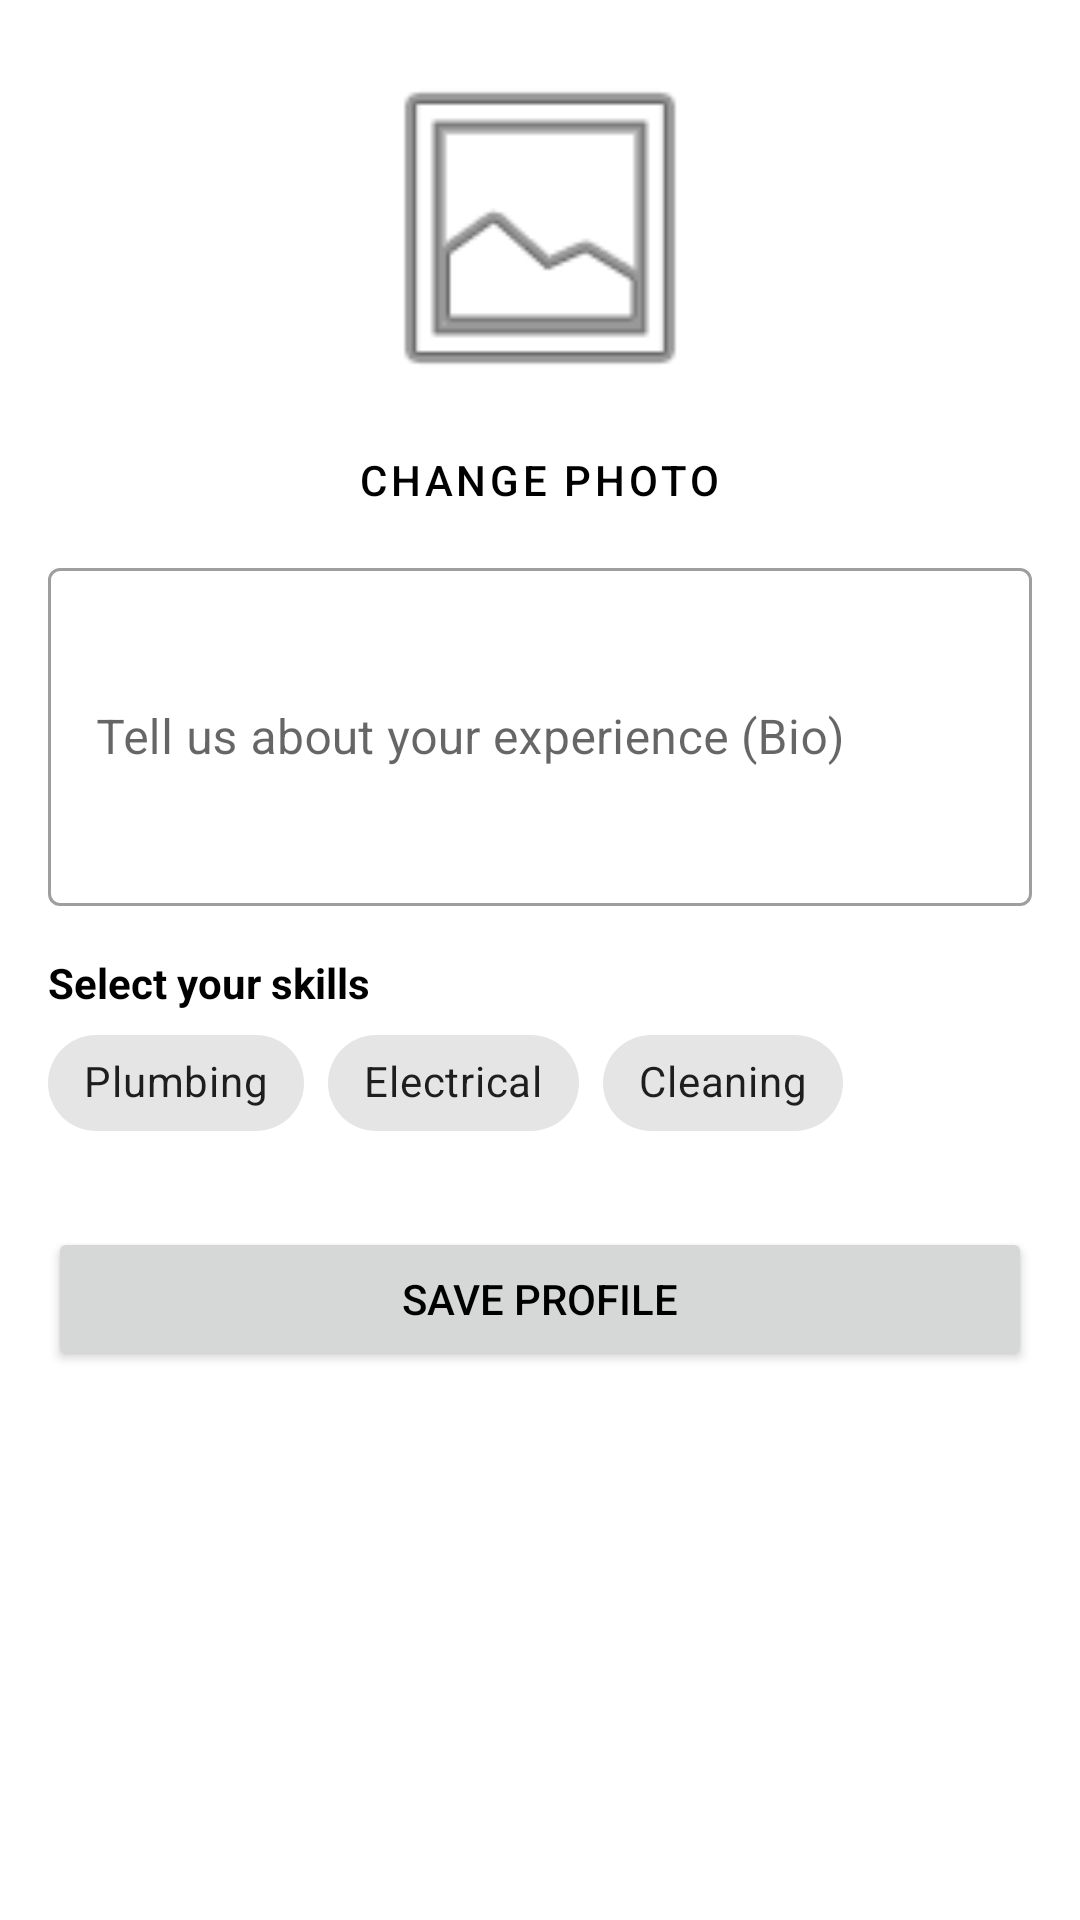

Icon bounding boxes for this 1080w x 1920h phone screenshot, format (x1, y1, x2, y2):
gallery: (404, 92, 676, 364)
